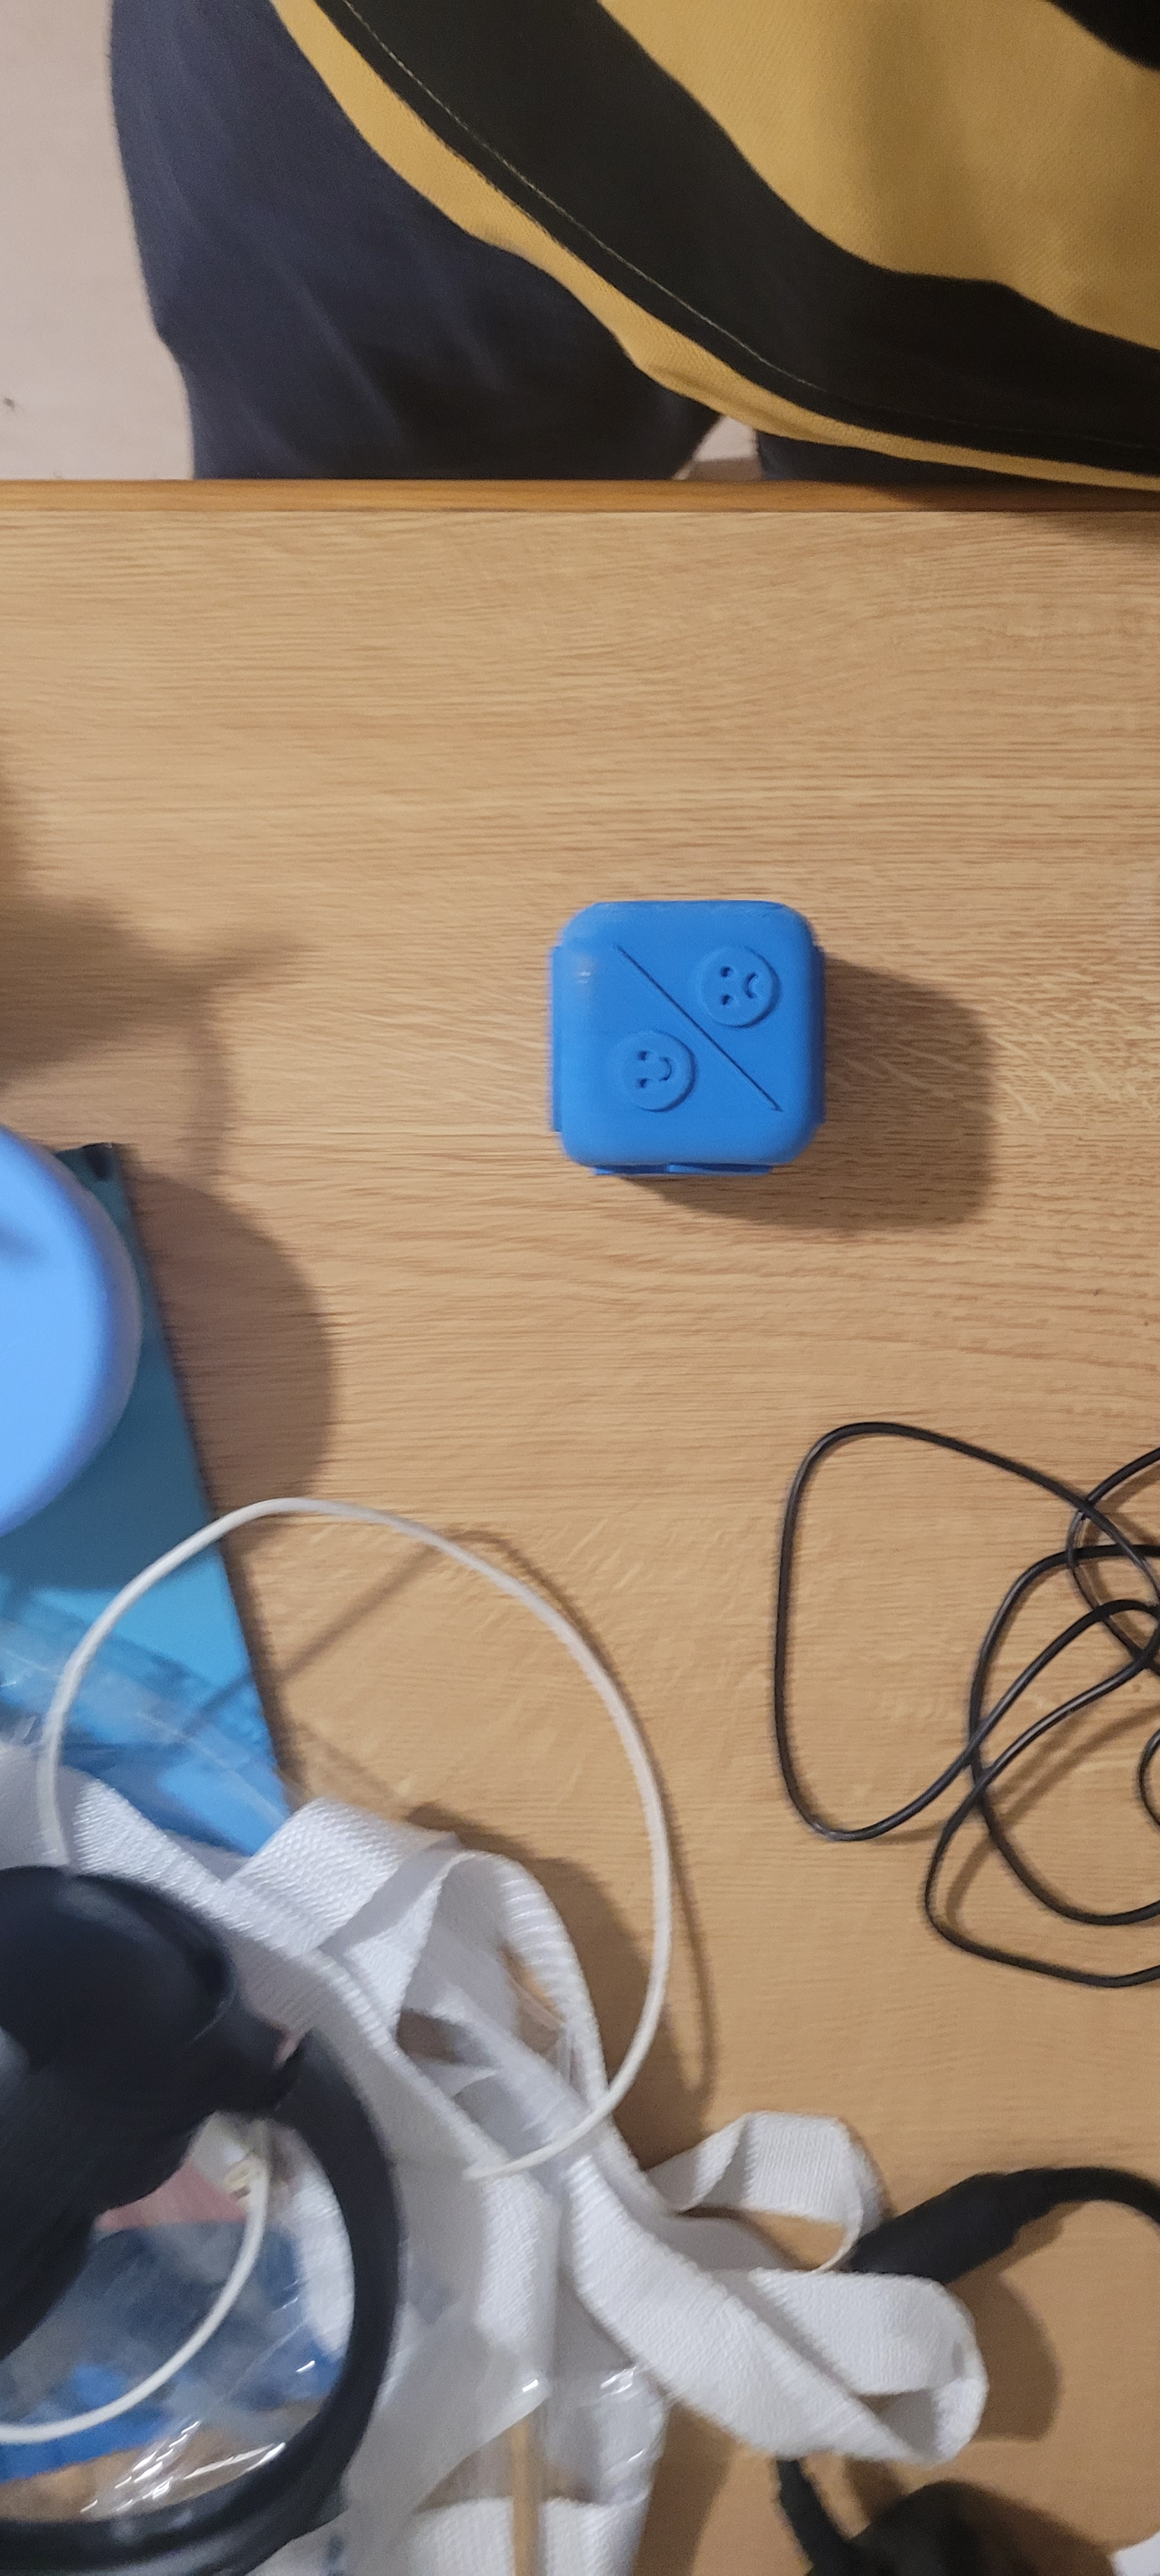Like/Dislike: (529, 890, 838, 1166)
